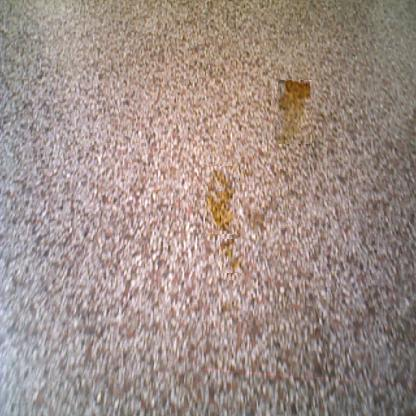liquid: (205, 166, 239, 234), (278, 80, 312, 144), (220, 239, 244, 273)
